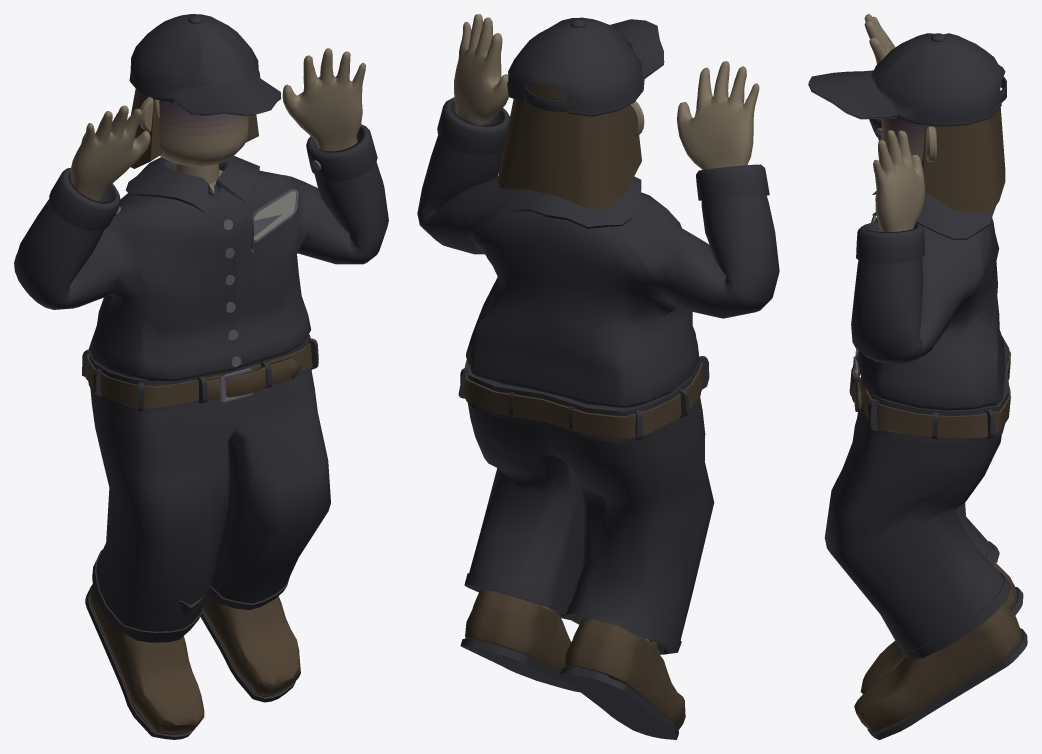
Rendered from TempGuard_Shock.fbx.
The picture shows the model from 3 angles, left to right: view 1: azimuth 30°, elevation 25°; view 2: azimuth 150°, elevation 25°; view 3: azimuth 270°, elevation 25°; orthographic projection. The views are drawn at different scales.
Parts seen in each view (by area): view 1: surprise; view 2: surprise; view 3: surprise.
Boxes of the visible parts, x1,y1,x2,y2 form: surprise: (14,14,388,739); surprise: (417,14,779,739); surprise: (808,14,1027,739).
Bounding box in the file's own units: 88.38 × 169 × 48.19.
